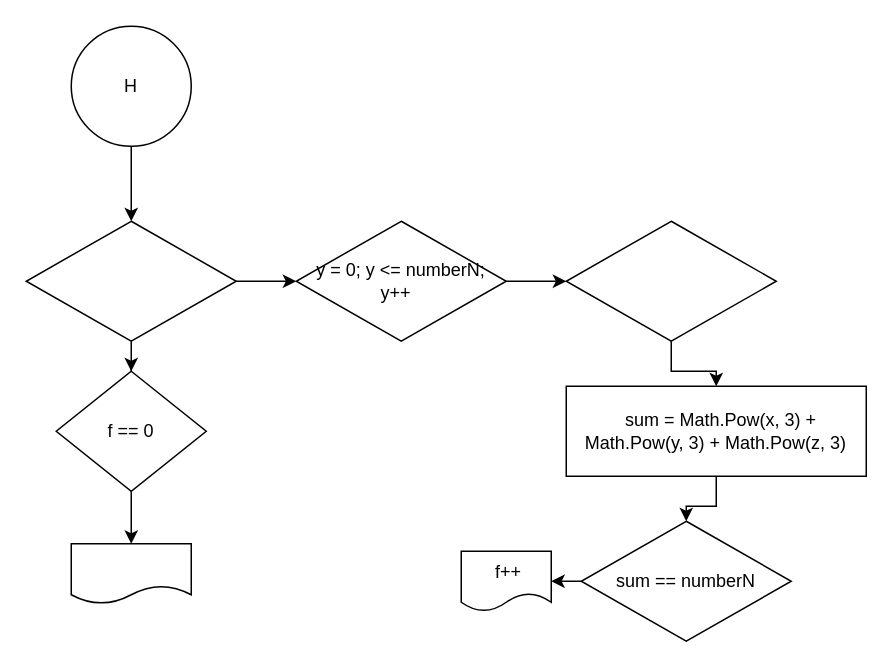
Some shapes in this 893 by 668 pixel diagram are drawn without their labels. The centre of each missing label's shape, as x and y in pixels:
"No such combinations!" goes at point 130,573.
"x = 0; x <= numberN; x++" goes at point 130,280.
"z = 0; z <= numberN; z++" goes at point 670,280.
